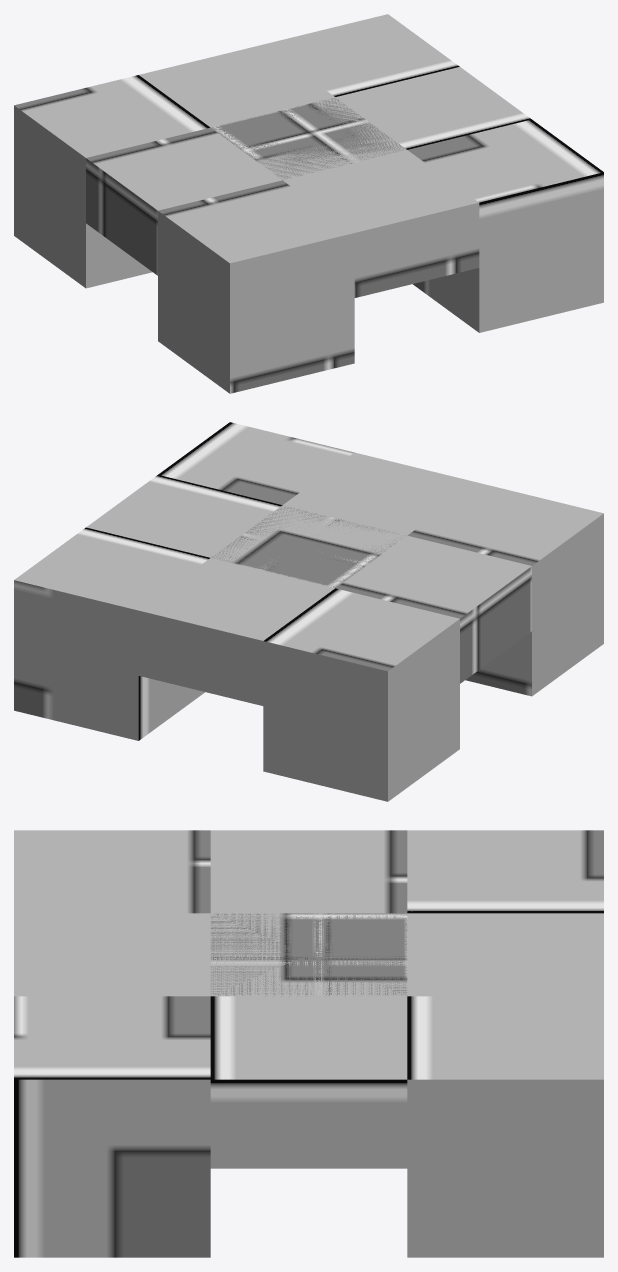
File: silo_launch_pad.obj
The picture shows the model from 3 angles, top to bottom: view 1: azimuth 30°, elevation 25°; view 2: azimuth 150°, elevation 25°; view 3: azimuth 270°, elevation 25°; orthographic projection. The views are drawn at different scales.
Parts seen in each view (by area): view 1: cube; view 2: cube; view 3: cube.
Boxes of the visible parts, x1=… form: cube: x1=14, y1=14, x2=603, y2=393; cube: x1=14, y1=422, x2=603, y2=801; cube: x1=14, y1=830, x2=603, y2=1257.
Size of the model in its own units: 3 by 1 by 3.
